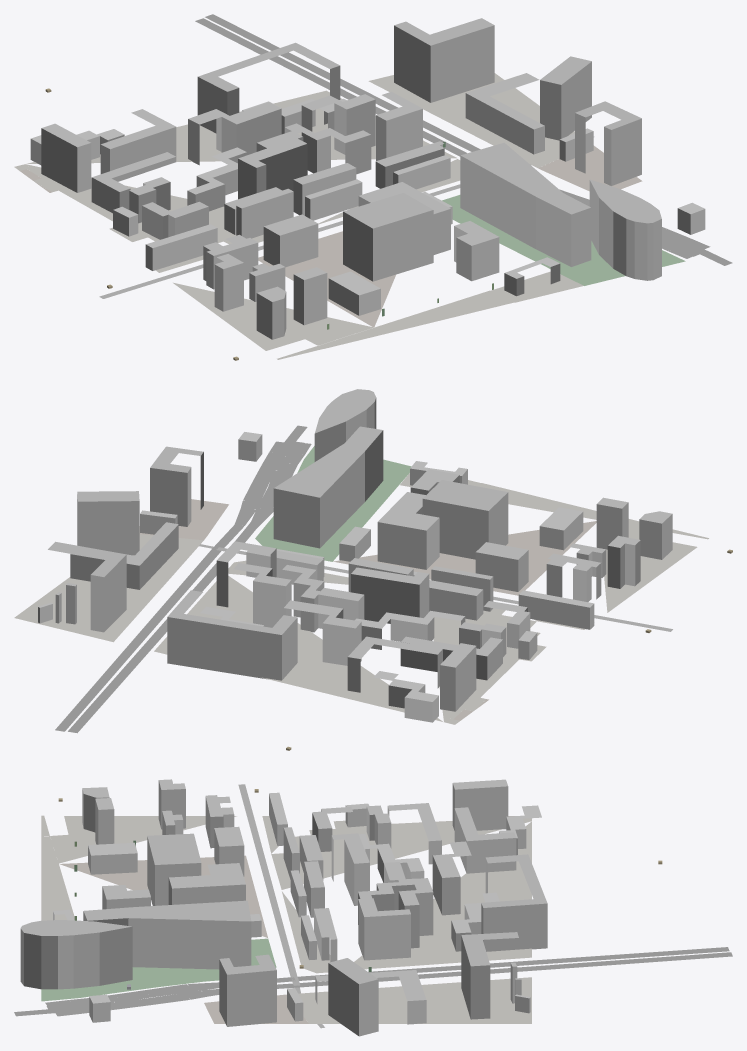
3 renders of one model, top to bottom at view 1: azimuth 30°, elevation 25°; view 2: azimuth 150°, elevation 25°; view 3: azimuth 270°, elevation 25°, orthographic. The views are drawn at different scales.
Bounding box in the file's own units: 606 × 60.79 × 733.
